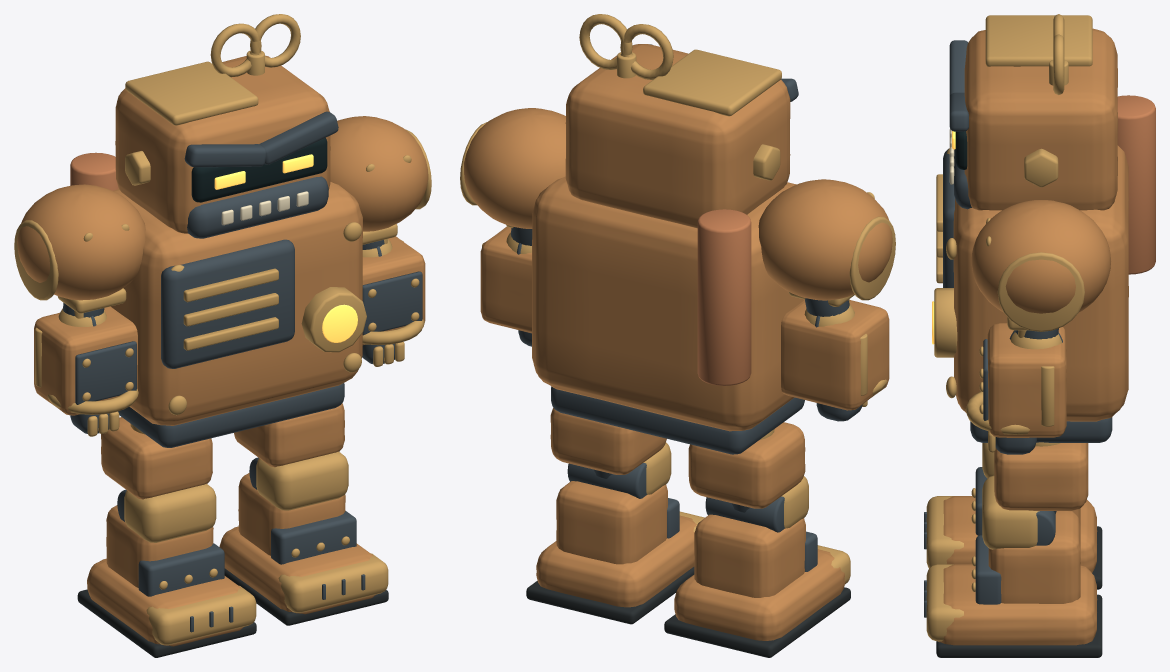
The model's file is scrapyard_bruiser.t3.glb.
3 renders of one model, left to right at view 1: azimuth 30°, elevation 25°; view 2: azimuth 150°, elevation 25°; view 3: azimuth 270°, elevation 25°, orthographic. The views are drawn at different scales.
Parts seen in each view (by area): view 1: slot_torso__clay_ochre_scrap__clay, slot_torso__forged_bluelead_steel__protected, slot_head__clay_ochre_scrap__clay, slot_legL__clay_ochre_scrap__clay, slot_legR__clay_ochre_scrap__clay, slot_armL__clay_ochre_scrap__clay, slot_head__worn_warm_brass__protected, slot_armR__clay_ochre_scrap__clay, slot_legL__worn_warm_brass__protected, slot_legR__worn_warm_brass__protected, slot_head__forged_bluelead_steel__protected, slot_torso__worn_warm_brass__protected (+18 smaller); view 2: slot_torso__clay_ochre_scrap__clay, slot_head__clay_ochre_scrap__clay, slot_legL__clay_ochre_scrap__clay, slot_legR__clay_ochre_scrap__clay, slot_armL__clay_ochre_scrap__clay, slot_torso__burnished_copper__protected, slot_head__worn_warm_brass__protected, slot_armR__clay_ochre_scrap__clay, armL_elbow__clay_ochre_scrap__clay, slot_torso__forged_bluelead_steel__protected, armR_elbow__clay_ochre_scrap__clay, slot_legL__charcoal_rubber__protected (+7 smaller); view 3: slot_head__clay_ochre_scrap__clay, slot_legR__clay_ochre_scrap__clay, slot_torso__clay_ochre_scrap__clay, slot_armR__clay_ochre_scrap__clay, slot_head__worn_warm_brass__protected, armR_elbow__clay_ochre_scrap__clay, slot_torso__burnished_copper__protected, slot_legR__worn_warm_brass__protected, slot_armR__worn_warm_brass__protected, slot_legL__clay_ochre_scrap__clay, slot_torso__forged_bluelead_steel__protected, slot_torso__worn_warm_brass__protected (+10 smaller).
Boxes of the visible parts, left/top/right/bottom form: slot_torso__clay_ochre_scrap__clay: left=111, top=182, right=362, bottom=425; slot_torso__forged_bluelead_steel__protected: left=118, top=239, right=344, bottom=447; slot_head__clay_ochre_scrap__clay: left=115, top=55, right=330, bottom=233; slot_legL__clay_ochre_scrap__clay: left=87, top=417, right=244, bottom=646; slot_legR__clay_ochre_scrap__clay: left=219, top=403, right=375, bottom=614; slot_armL__clay_ochre_scrap__clay: left=17, top=184, right=145, bottom=300; slot_head__worn_warm_brass__protected: left=125, top=14, right=300, bottom=185; slot_armR__clay_ochre_scrap__clay: left=330, top=116, right=428, bottom=231; slot_legL__worn_warm_brass__protected: left=124, top=423, right=256, bottom=645; slot_legR__worn_warm_brass__protected: left=256, top=451, right=388, bottom=612; slot_head__forged_bluelead_steel__protected: left=184, top=111, right=338, bottom=238; slot_torso__worn_warm_brass__protected: left=168, top=222, right=366, bottom=415; slot_torso__clay_ochre_scrap__clay: left=532, top=176, right=804, bottom=431; slot_head__clay_ochre_scrap__clay: left=565, top=44, right=790, bottom=228; slot_legL__clay_ochre_scrap__clay: left=674, top=422, right=845, bottom=640; slot_legR__clay_ochre_scrap__clay: left=536, top=408, right=696, bottom=607; slot_armL__clay_ochre_scrap__clay: left=758, top=179, right=892, bottom=300; slot_torso__burnished_copper__protected: left=697, top=209, right=751, bottom=385; slot_head__worn_warm_brass__protected: left=579, top=14, right=781, bottom=180; slot_armR__clay_ochre_scrap__clay: left=464, top=108, right=565, bottom=228; armL_elbow__clay_ochre_scrap__clay: left=781, top=300, right=889, bottom=410; slot_torso__forged_bluelead_steel__protected: left=551, top=386, right=804, bottom=454; armR_elbow__clay_ochre_scrap__clay: left=480, top=226, right=531, bottom=333; slot_legL__charcoal_rubber__protected: left=664, top=587, right=850, bottom=657; slot_head__clay_ochre_scrap__clay: left=964, top=28, right=1117, bottom=210; slot_legR__clay_ochre_scrap__clay: left=938, top=443, right=1097, bottom=645; slot_torso__clay_ochre_scrap__clay: left=953, top=145, right=1128, bottom=421; slot_armR__clay_ochre_scrap__clay: left=971, top=200, right=1110, bottom=313; slot_head__worn_warm_brass__protected: left=985, top=14, right=1092, bottom=187; armR_elbow__clay_ochre_scrap__clay: left=987, top=323, right=1066, bottom=437; slot_torso__burnished_copper__protected: left=1117, top=95, right=1155, bottom=274; slot_legR__worn_warm_brass__protected: left=926, top=442, right=1060, bottom=641; slot_armR__worn_warm_brass__protected: left=986, top=218, right=1084, bottom=349; slot_legL__clay_ochre_scrap__clay: left=943, top=496, right=1097, bottom=572; slot_torso__forged_bluelead_steel__protected: left=943, top=148, right=1112, bottom=442; slot_torso__worn_warm_brass__protected: left=934, top=148, right=957, bottom=398.
Bounding box in the file's own units: 2.21 × 3 × 1.06.
